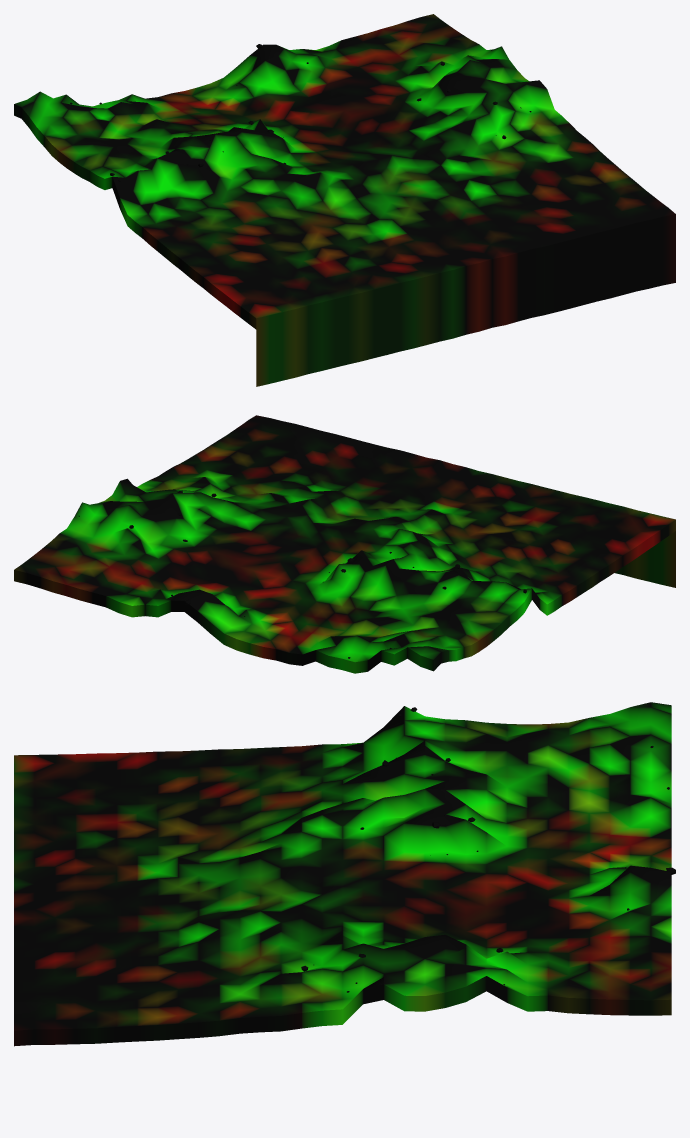
Rendered from Terrain_07_06.fbx.
3 views of the same model, one above another, from view 1: azimuth 30°, elevation 25°; view 2: azimuth 150°, elevation 25°; view 3: azimuth 270°, elevation 25° (orthographic). The views are drawn at different scales.
Visible parts, largest first — view 1: Terrain_07_06_LOD0; view 2: Terrain_07_06_LOD0; view 3: Terrain_07_06_LOD0.
Part boxes in pixels (bbox=[...]): Terrain_07_06_LOD0: bbox=[14, 14, 675, 386]; Terrain_07_06_LOD0: bbox=[14, 415, 675, 673]; Terrain_07_06_LOD0: bbox=[14, 702, 675, 1046].
Size of what is drawn, in the model's own units: 384 by 98.43 by 387.
